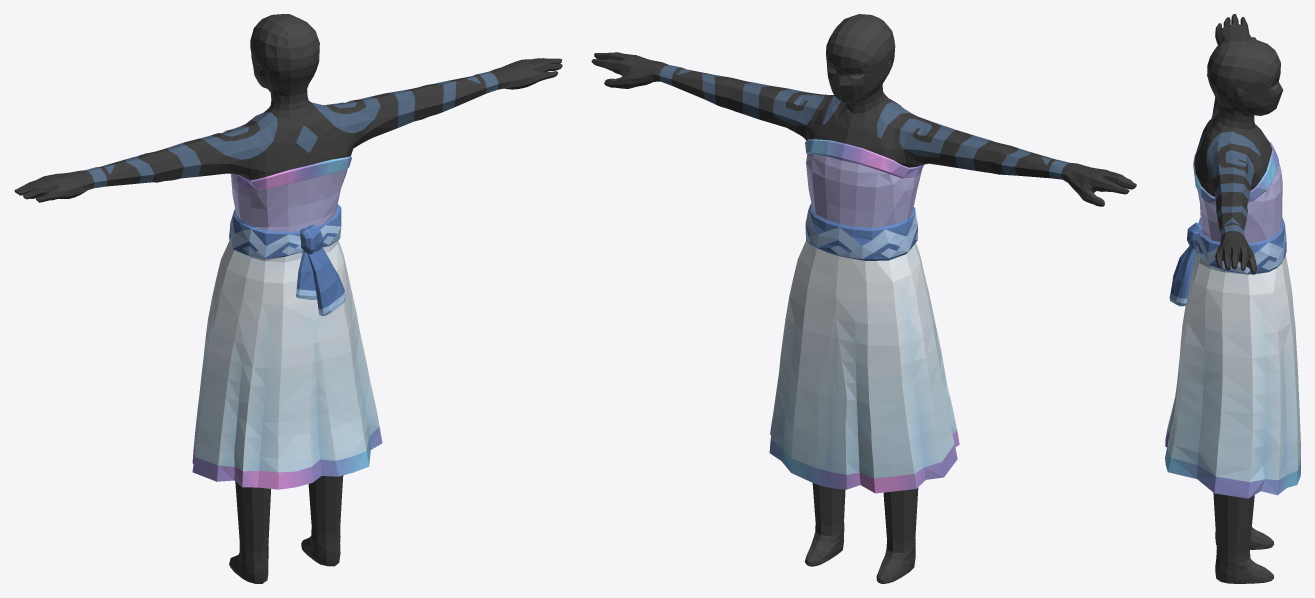
The model's file is NPC_AP23CellistDress.glb.
The picture shows the model from 3 angles, left to right: view 1: azimuth 30°, elevation 25°; view 2: azimuth 150°, elevation 25°; view 3: azimuth 270°, elevation 25°; orthographic projection. The views are drawn at different scales.
Parts seen in each view (by area): view 1: NPC_AP23CellistDress; view 2: NPC_AP23CellistDress; view 3: NPC_AP23CellistDress.
Boxes of the visible parts, x1=… form: NPC_AP23CellistDress: x1=14, y1=14, x2=562, y2=583; NPC_AP23CellistDress: x1=591, y1=14, x2=1136, y2=583; NPC_AP23CellistDress: x1=1165, y1=14, x2=1300, y2=583.
Size of the model in its own units: 14.22 by 13.68 by 3.23.
1 material, 1 textured.
